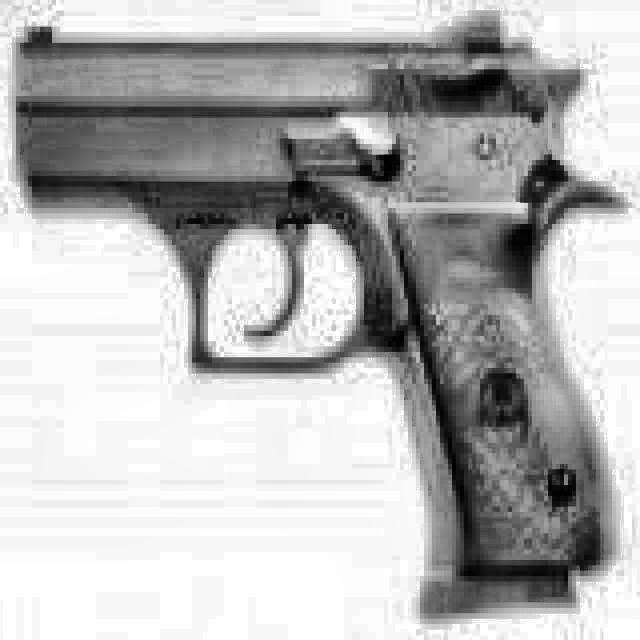pistol: (4, 7, 628, 620)
